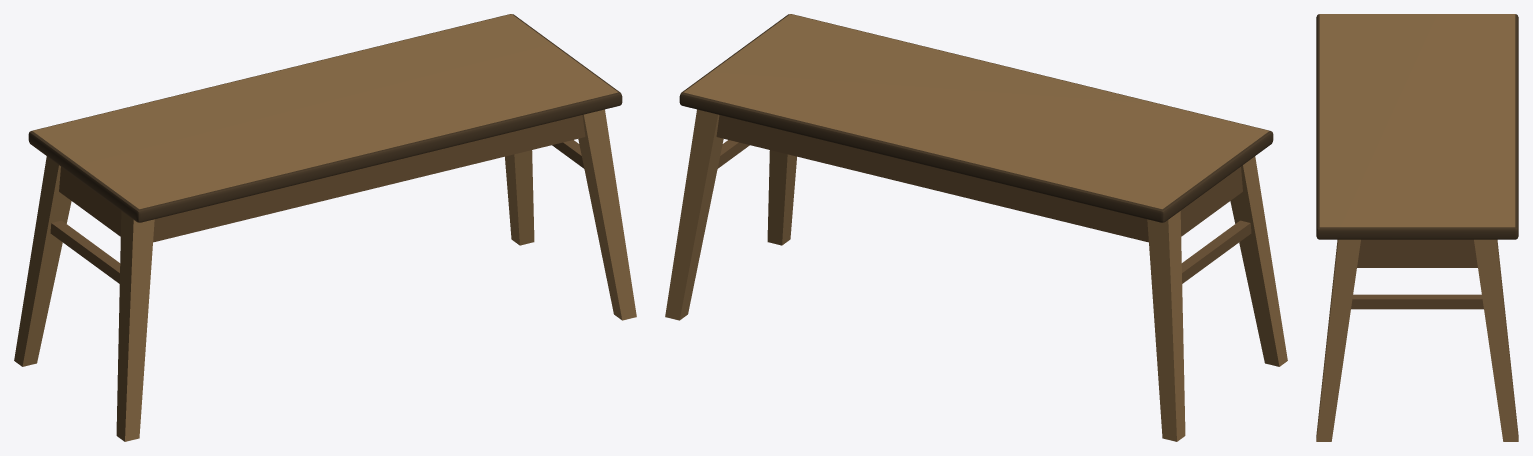
Rendered from desk.glb.
3 renders of one model, left to right at view 1: azimuth 30°, elevation 25°; view 2: azimuth 150°, elevation 25°; view 3: azimuth 270°, elevation 25°, orthographic. The views are drawn at different scales.
Parts seen in each view (by area): view 1: desk; view 2: desk; view 3: desk.
Boxes of the visible parts, box(x1,y1,x2,y2) form: desk: box(14, 14, 636, 441); desk: box(665, 14, 1287, 441); desk: box(1316, 14, 1518, 441).
Size of what is drawn, in the model's own units: 2 by 0.8484 by 0.75.
1 material, 1 textured.
